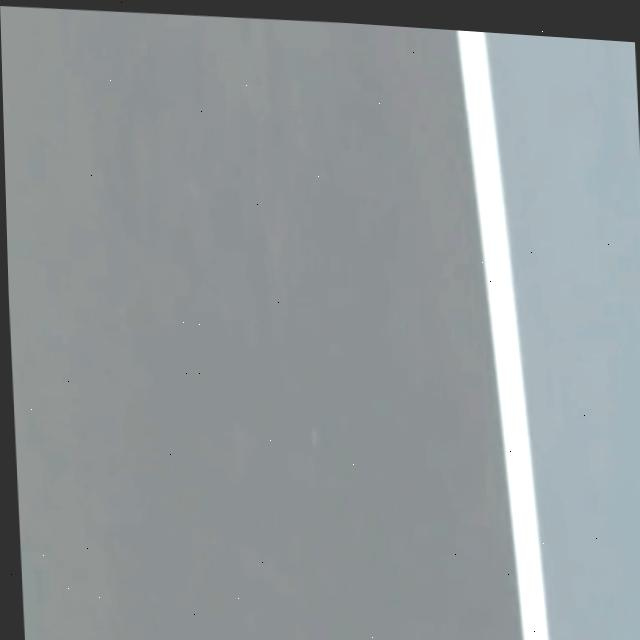left: (456, 30, 550, 640)
